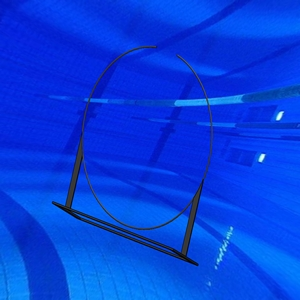circle: (51, 44, 213, 267)
